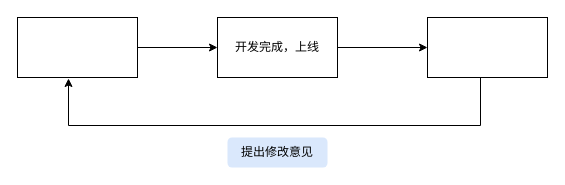
This 565x185 diagram has some shape labels left out. Here are the shapes that lost their labels. From the top down, the centre of each, then its label:
At point (77, 47): "前端开发 （人翻 / 机翻）".
At point (487, 47): "非技术人员".
